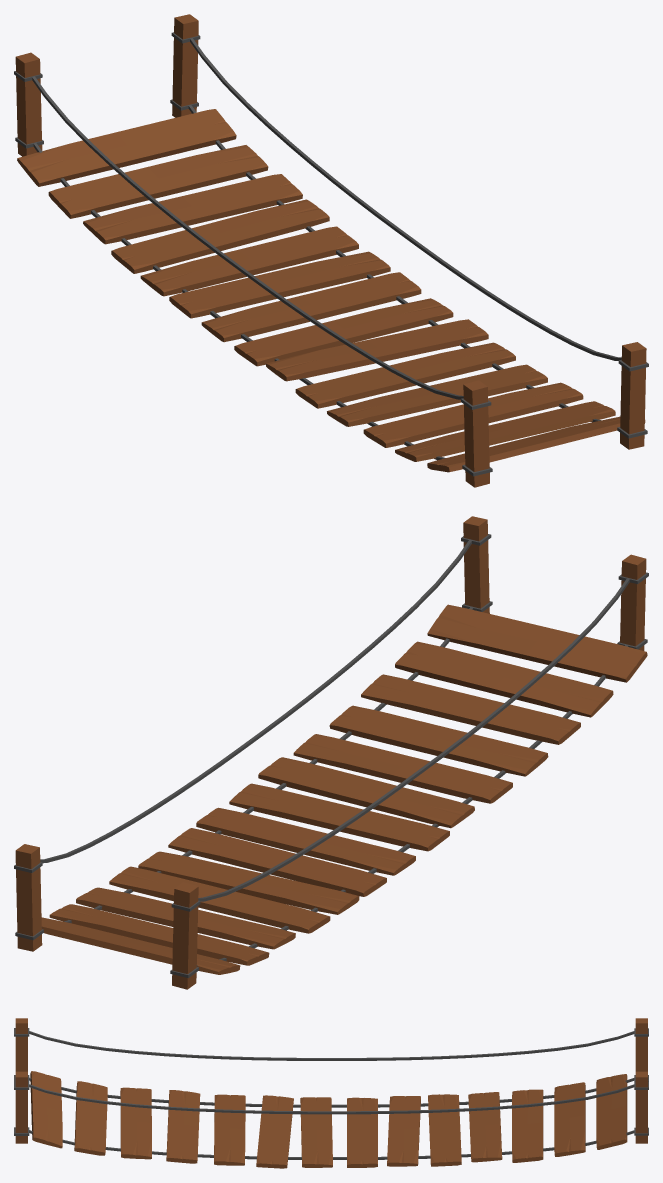
The model's file is bridge_rope.fbx.
3 views of the same model, one above another, from view 1: azimuth 30°, elevation 25°; view 2: azimuth 150°, elevation 25°; view 3: azimuth 270°, elevation 25° (orthographic). The views are drawn at different scales.
Parts seen in each view (by area): view 1: Cube.007, Cube.010, Cube.011, Cube.012, Cube.013, Cube.015, Cube.014, Cube.018, Cube.020, Cube.019, Cube.022, Cube.021 (+10 smaller); view 2: Cube.024, Cube.023, Cube.021, Cube.022, Cube.019, Cube.020, Cube.018, Cube.015, Cube.014, Cube.013, Cube.012, Cube.011 (+10 smaller); view 3: Rope.001, Rope.002, Cube.011, Cube.019, Cube.021, Cube.013, Cube.010, Cube.014, Cube.022, Cube.023, Cube.020, Cube.018 (+10 smaller).
Boxes of the visible parts, x1,y1,x2,y2 form: Cube.007: (17, 109, 236, 186); Cube.010: (48, 145, 268, 218); Cube.011: (83, 174, 302, 244); Cube.012: (111, 199, 329, 273); Cube.013: (140, 226, 358, 296); Cube.015: (201, 272, 421, 342); Cube.014: (169, 251, 390, 318); Cube.018: (234, 298, 453, 366); Cube.020: (295, 342, 515, 408); Cube.019: (265, 319, 488, 381); Cube.022: (363, 382, 583, 447); Cube.021: (327, 364, 547, 426); Cube.024: (427, 604, 647, 682); Cube.023: (395, 641, 613, 717); Cube.021: (329, 705, 548, 776); Cube.022: (361, 674, 580, 744); Cube.019: (258, 757, 474, 828); Cube.020: (293, 734, 512, 803); Cube.018: (229, 783, 449, 851); Cube.015: (196, 807, 415, 875); Cube.014: (168, 828, 386, 896); Cube.013: (138, 851, 359, 914); Cube.012: (109, 866, 330, 933); Cube.011: (76, 887, 295, 949); Rope.001: (14, 1081, 648, 1114); Rope.002: (14, 1028, 648, 1060); Cube.011: (512, 1089, 543, 1162); Cube.019: (256, 1095, 293, 1168); Cube.021: (166, 1090, 200, 1163); Cube.013: (428, 1094, 461, 1166); Cube.010: (554, 1082, 585, 1156); Cube.014: (387, 1096, 420, 1166); Cube.022: (120, 1087, 151, 1159); Cube.023: (74, 1081, 107, 1155); Cube.020: (214, 1094, 245, 1165); Cube.018: (300, 1097, 332, 1167).
Size of the model in its own units: 265 by 155 by 1024.
